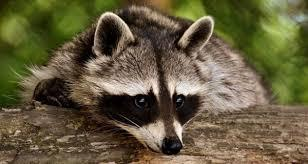Non_Gorille: (40, 1, 265, 163)
